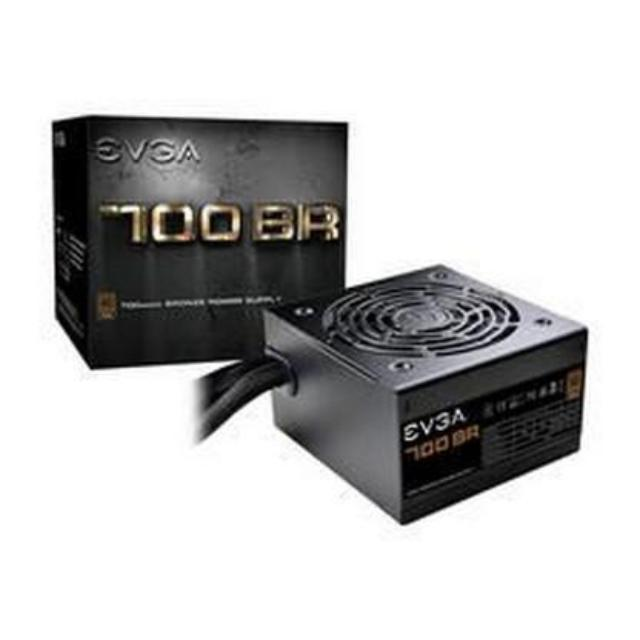PSU: (254, 252, 598, 542)
